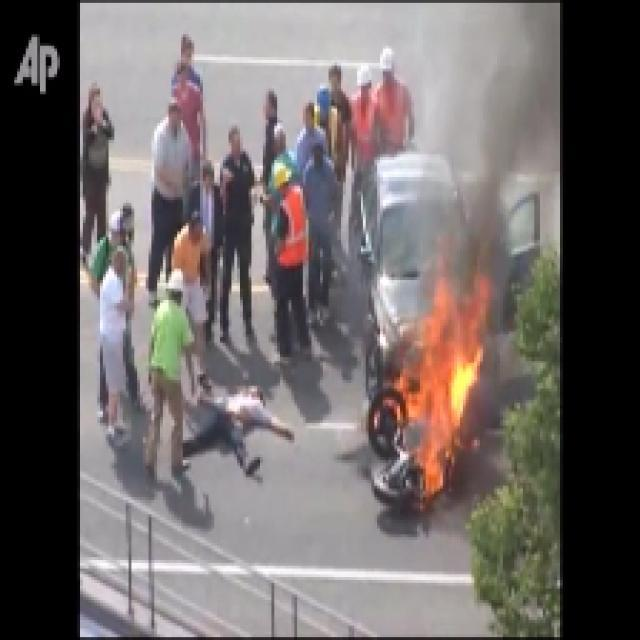Fire: (380, 254, 497, 503)
Smoke: (417, 6, 554, 258)
